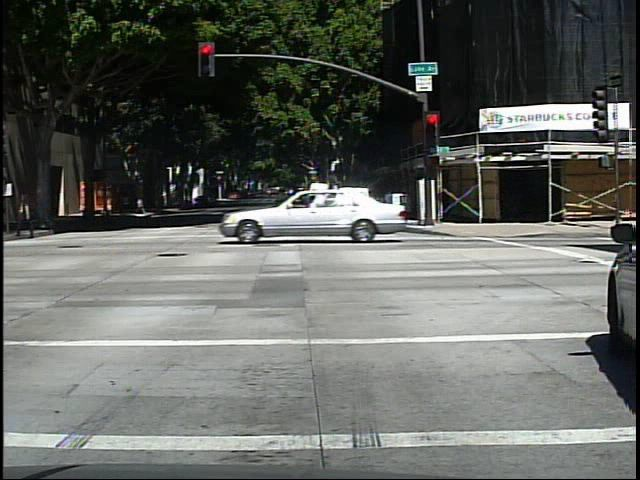person: (14, 189, 43, 242)
